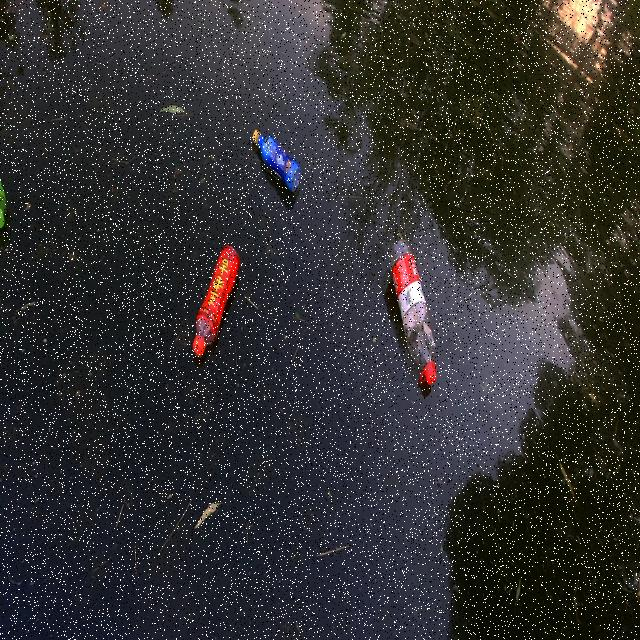Bottle: (384, 238, 442, 392), (188, 240, 242, 358), (250, 123, 304, 198)
